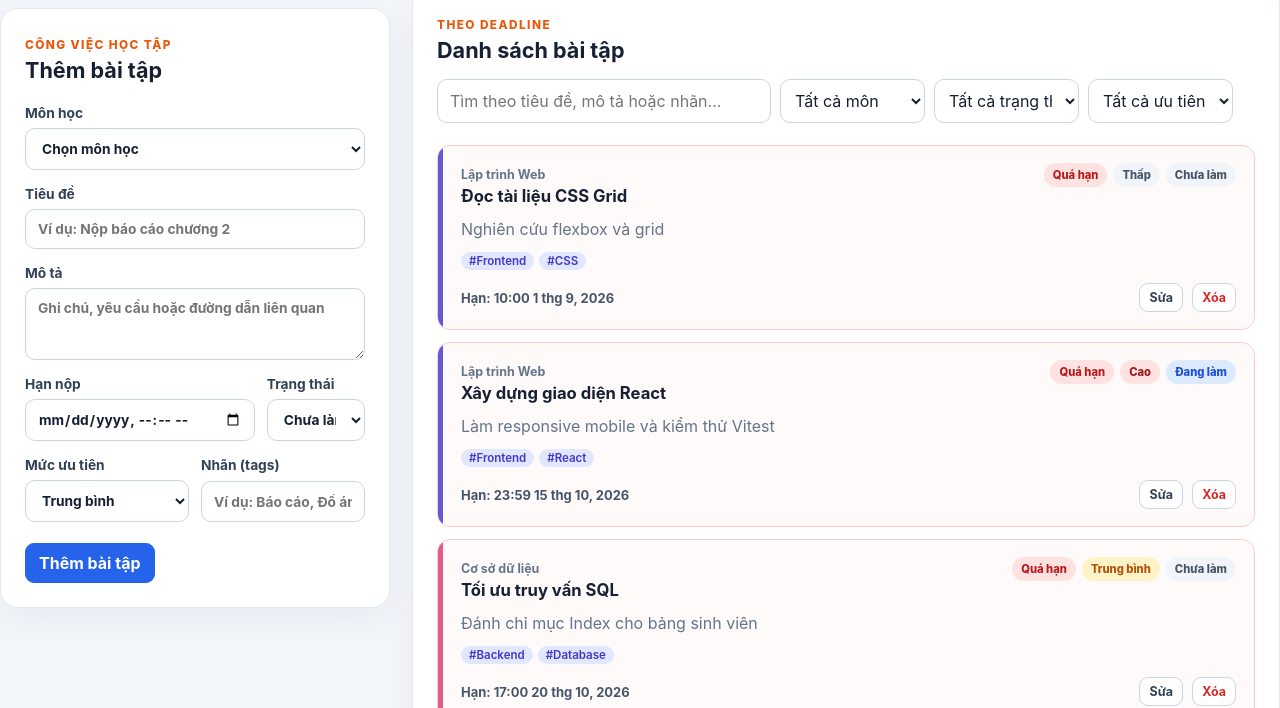
Test: Advanced Assignments Workflow: Priority, Tags & Smart Filters › creates a new assignment with selected priority and comma-separated tags
// Select course in form
Select "Lập trình Web" in the dropdown labelled "Môn học" at [195, 149], box [25,128,365,170]
Type "Bài tập Redux Toolkit" into the field with placeholder "Ví dụ: Nộp báo cáo chương 2" at [195, 229], box [25,209,365,249]
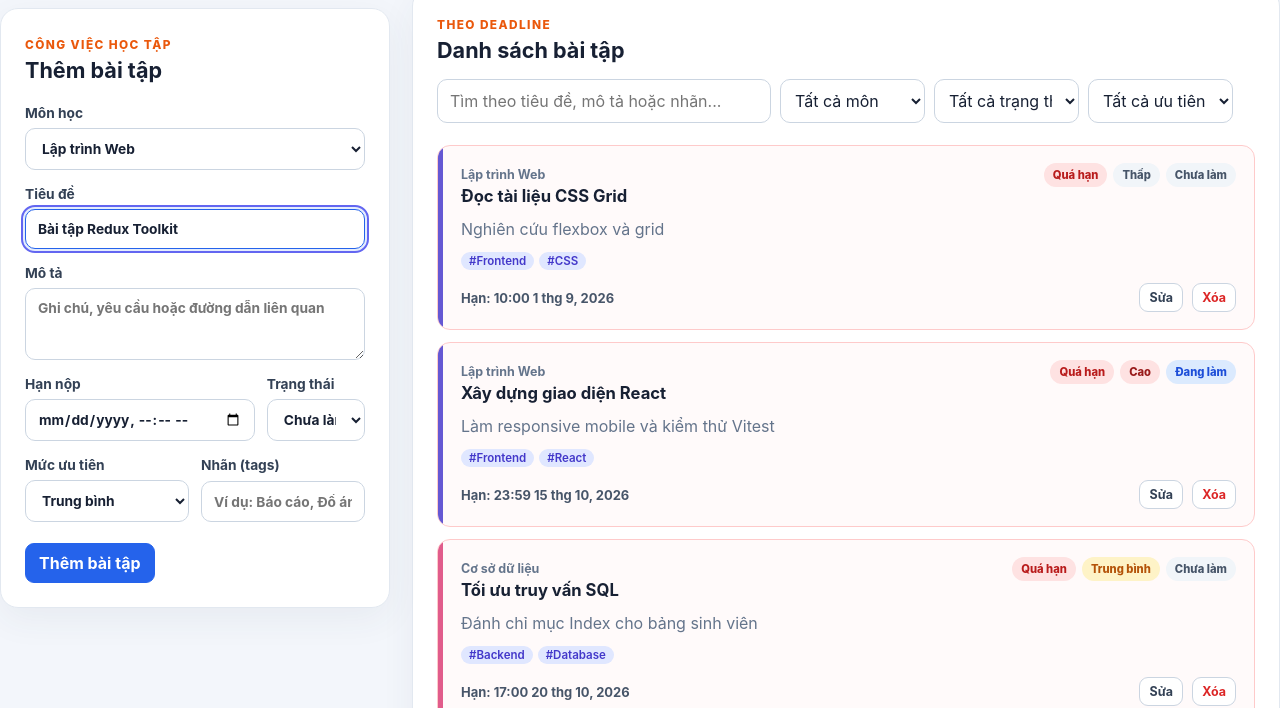
Type "Thực hành slice và thunk" into the text box with placeholder "Ghi chú, yêu cầu hoặc đường dẫn liên quan" at [195, 324], box [25,288,365,360]
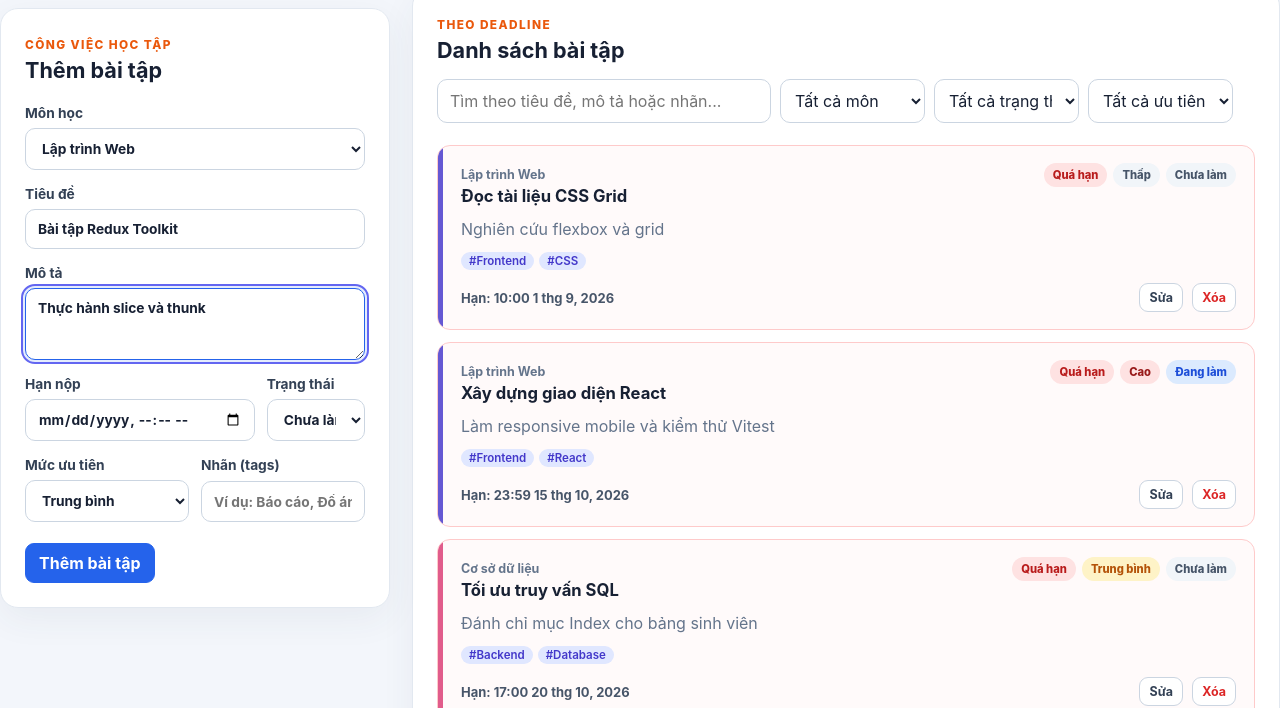
Type "2026-10-30T10:00" into the field labelled "Hạn nộp" at [140, 420], box [25,399,255,441]
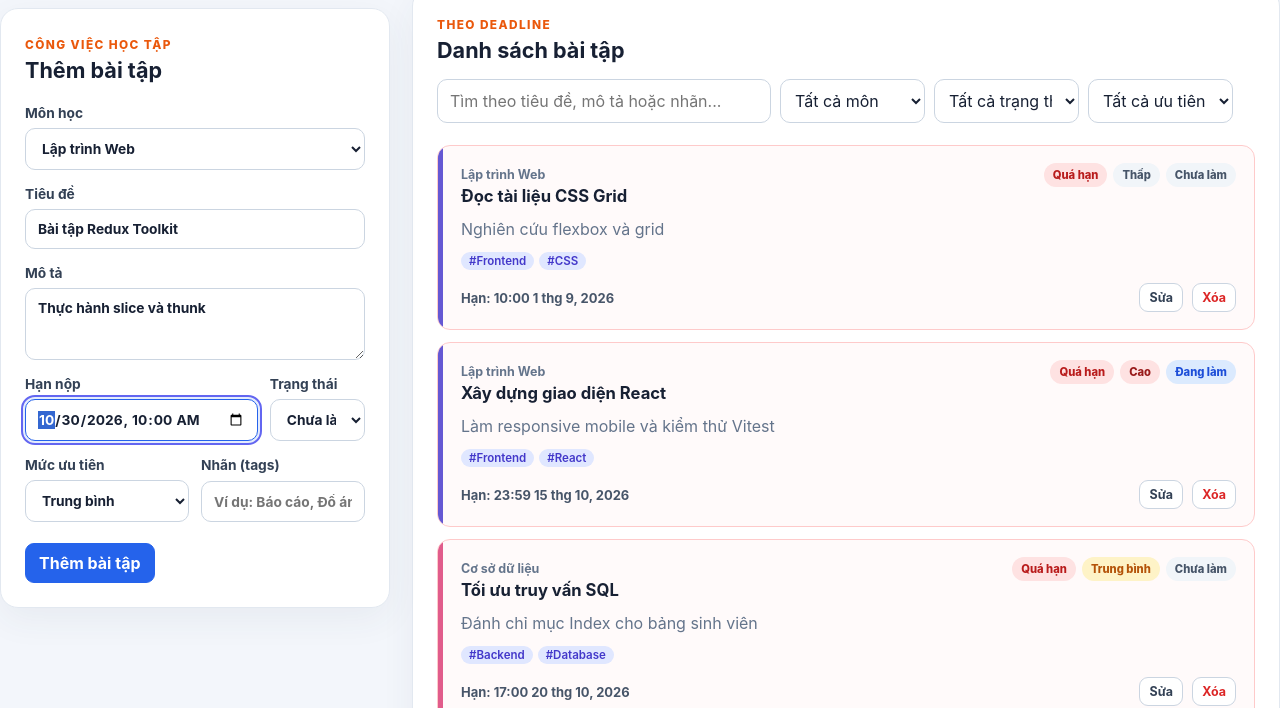
Select "Cao" in the dropdown named "Mức ưu tiên bài tập" at [107, 501], box [25,480,189,522]
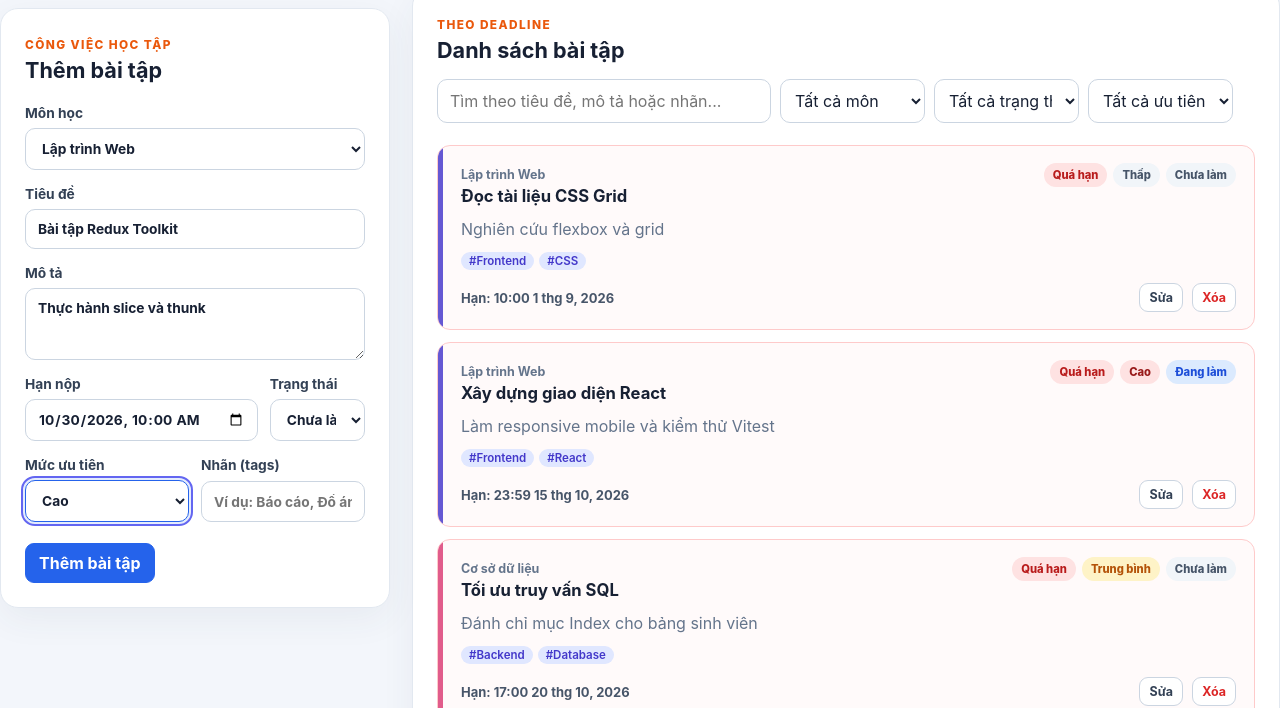
Type "State, Redux, React" into the field with placeholder "Ví dụ: Báo cáo, Đồ án" at [283, 502], box [201,481,365,522]
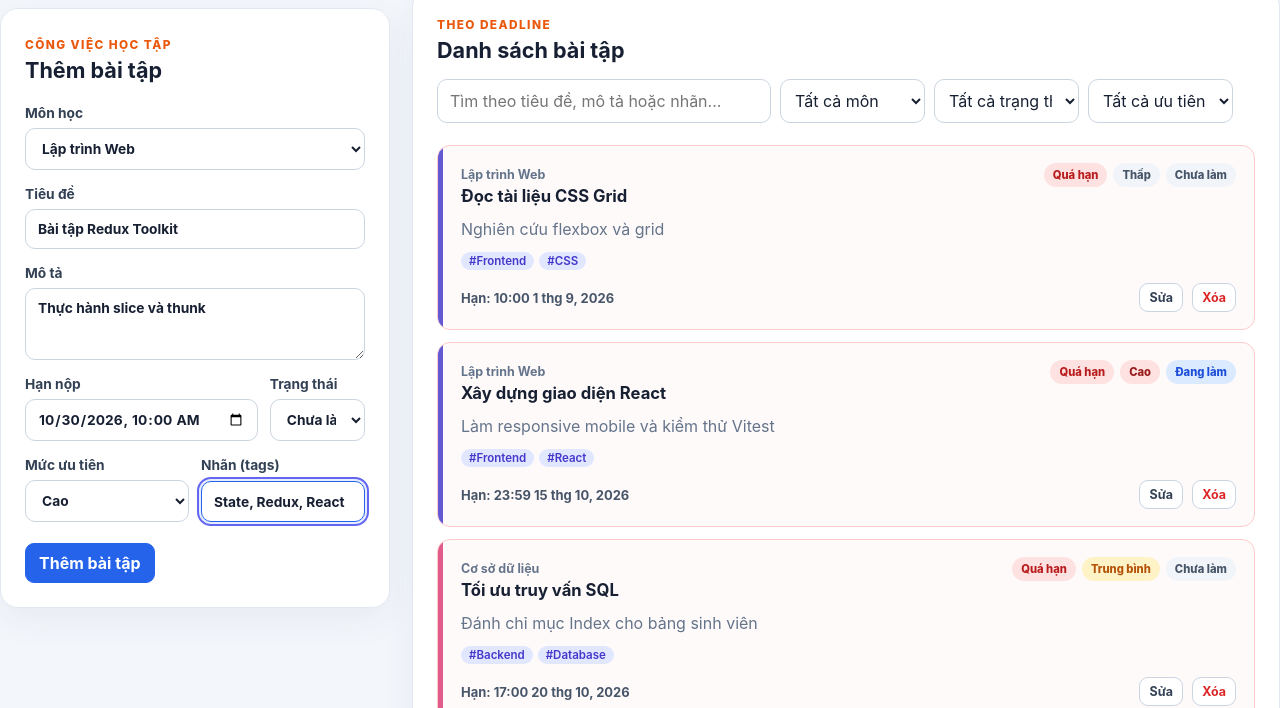
Click the button "Thêm bài tập" at [90, 563], box [25,543,154,583]
(page scrolled)
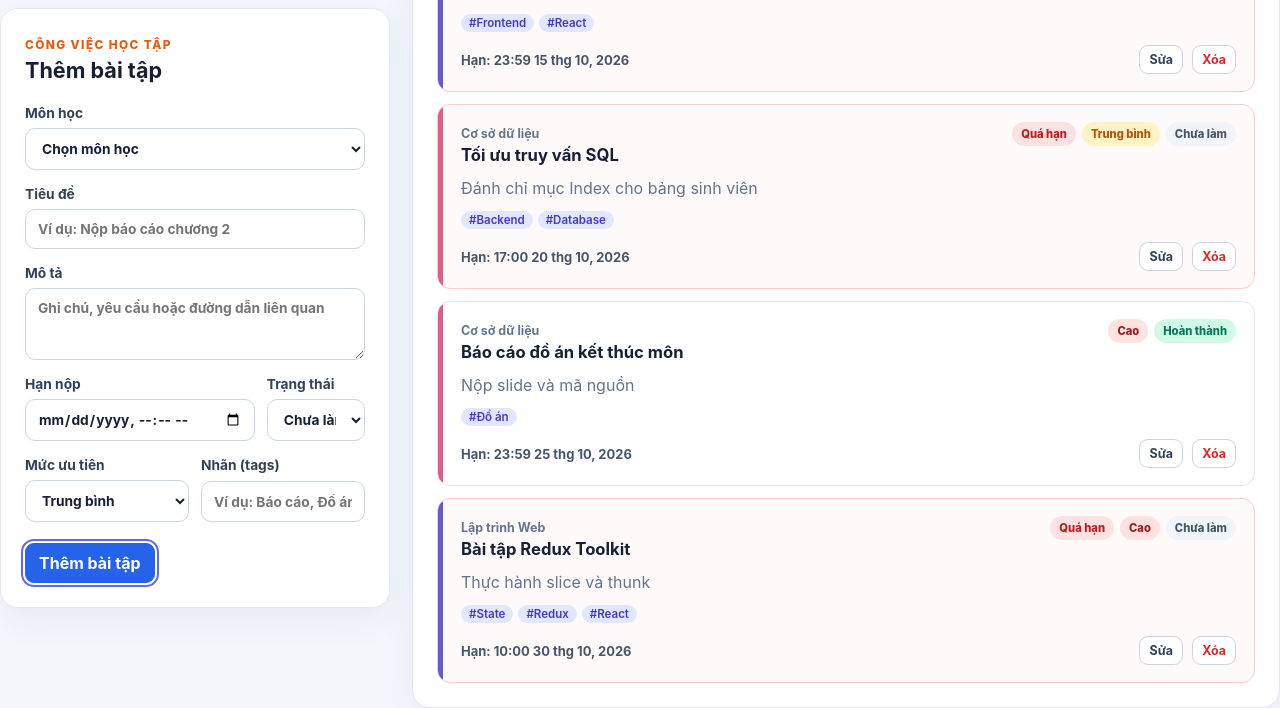
Now the heading "Bài tập Redux Toolkit" is shown, box [461,539,630,559]
Now the text "#State" is shown, box [461,605,513,623]
Now the text "#Redux" is shown, box [518,605,577,623]
